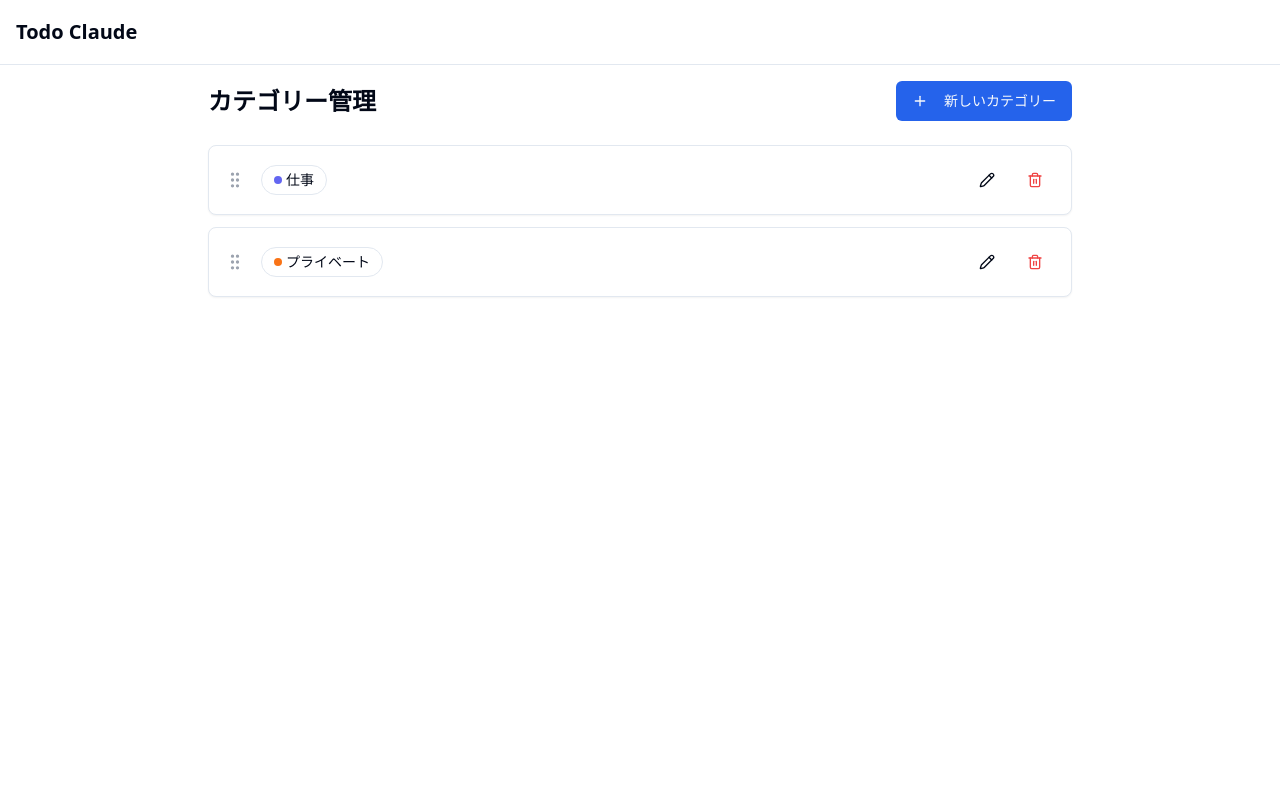
CategoriesPage › should show edit dialog when clicking edit button
Click the button named "仕事を編集" at coordinates (987, 180), box 967,162 -> 1007,198
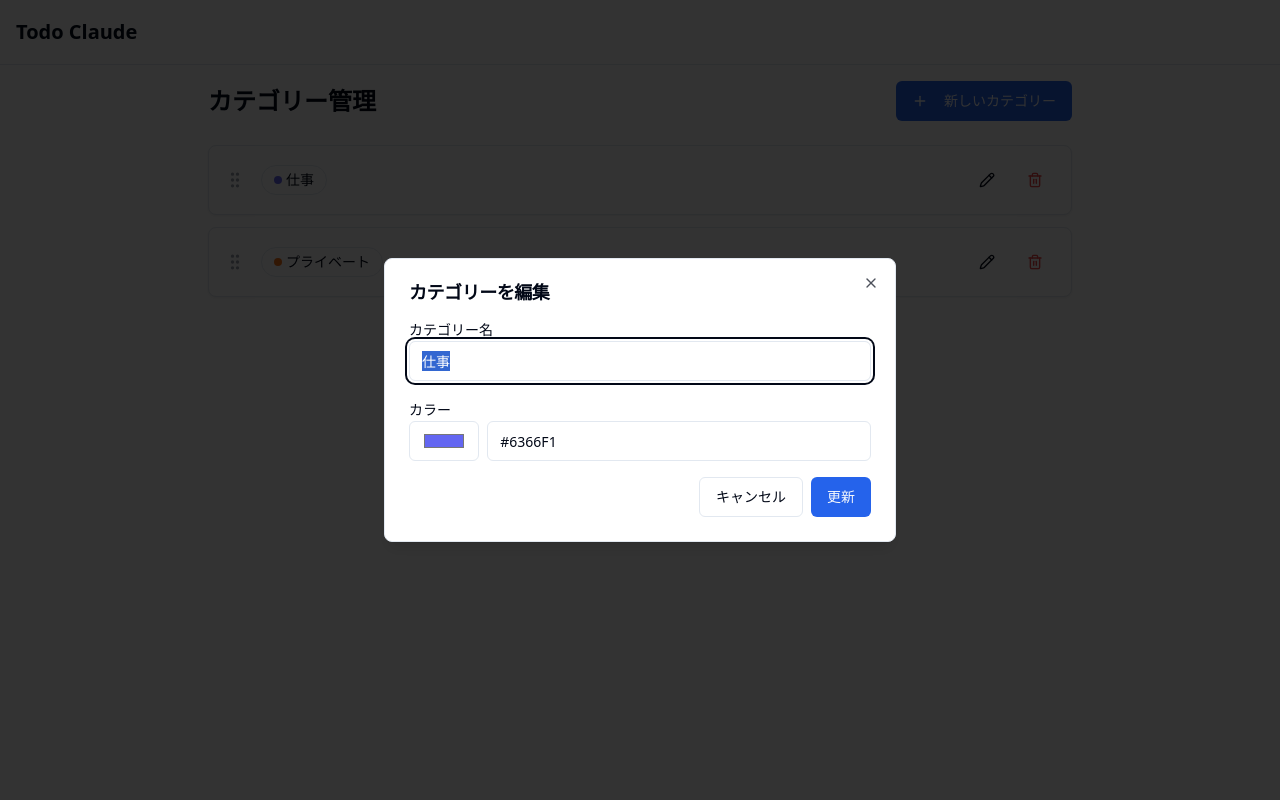
expect the heading "カテゴリーを編集" is shown: met, box 409,280 -> 549,304
expect the field showing "仕事" is shown: met, box 409,341 -> 871,381
